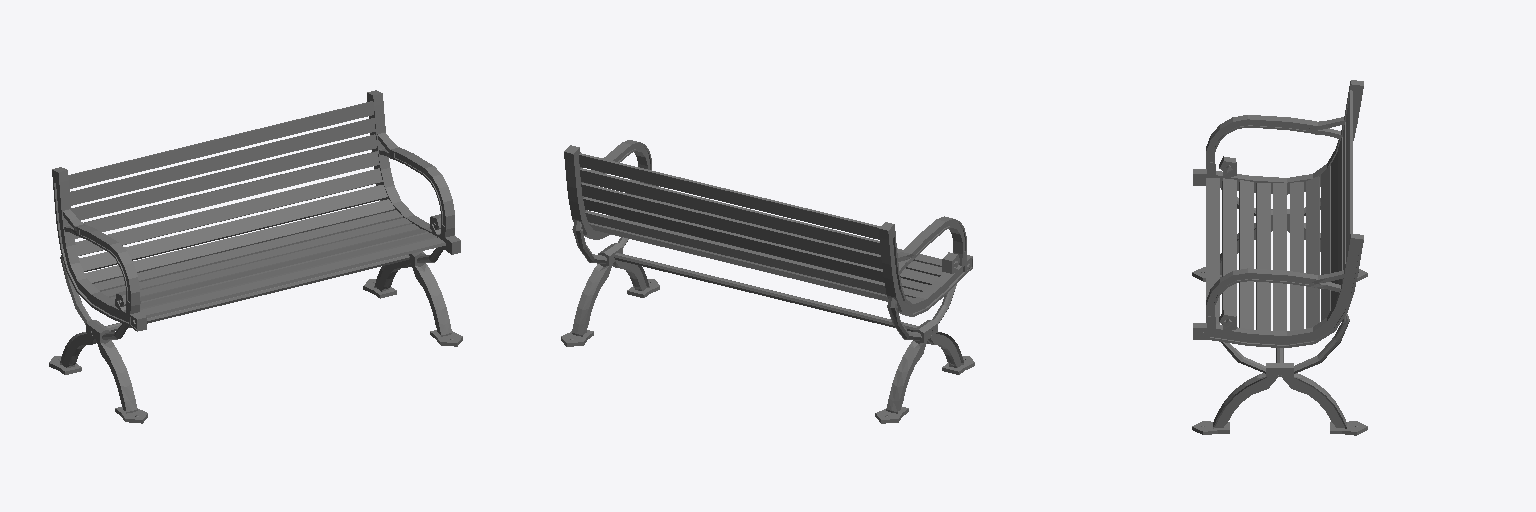
The model's file is bench.obj.
The picture shows the model from 3 angles: view 1: azimuth 30°, elevation 25°; view 2: azimuth 150°, elevation 25°; view 3: azimuth 270°, elevation 25°; orthographic projection.
Parts seen in each view (by area): view 1: LoD_0; view 2: LoD_0; view 3: LoD_0.
Boxes of the visible parts, x1=… form: LoD_0: x1=49, y1=90, x2=462, y2=423; LoD_0: x1=561, y1=140, x2=974, y2=423; LoD_0: x1=1192, y1=80, x2=1367, y2=435.
Size of the model in its own units: 176 by 96.85 by 79.41.